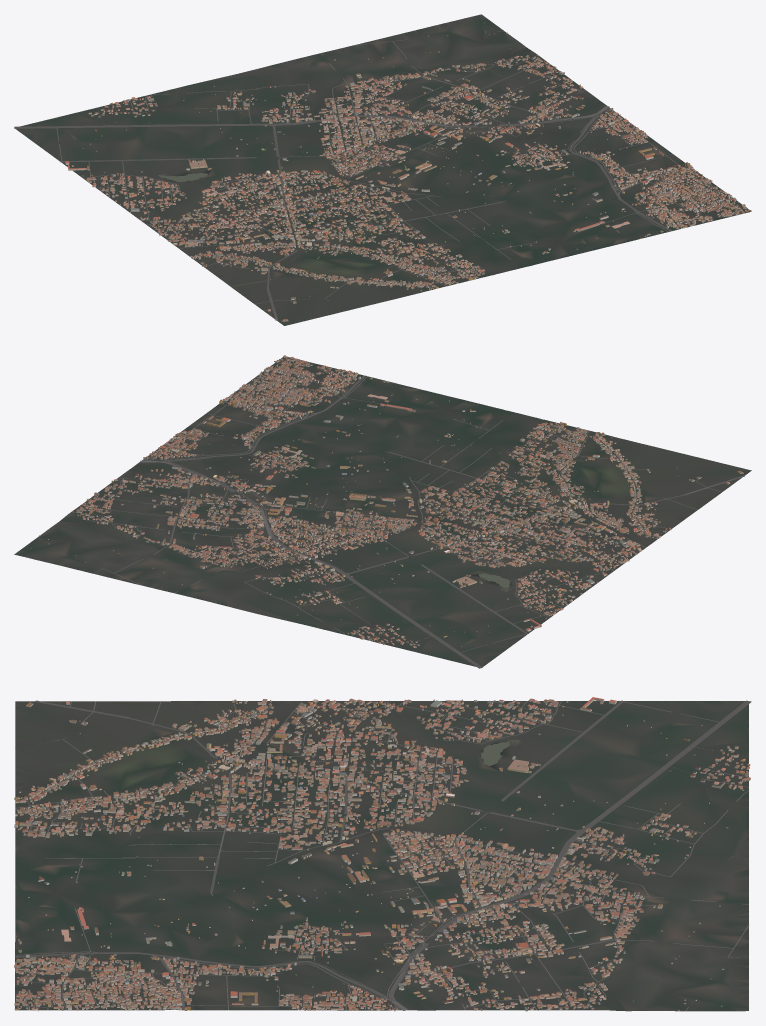
The picture shows the model from 3 angles, top to bottom: view 1: azimuth 30°, elevation 25°; view 2: azimuth 150°, elevation 25°; view 3: azimuth 270°, elevation 25°; orthographic projection. The views are drawn at different scales.
Visible parts, largest first — view 1: ground, buildings, roads; view 2: ground, buildings, roads; view 3: ground, buildings, roads.
Part boxes in pixels (x1=…): ground: x1=15, y1=14, x2=749, y2=325; buildings: x1=65, y1=22, x2=751, y2=321; roads: x1=14, y1=31, x2=744, y2=320; ground: x1=14, y1=356, x2=751, y2=667; buildings: x1=30, y1=355, x2=743, y2=647; roads: x1=37, y1=358, x2=744, y2=668; ground: x1=15, y1=700, x2=748, y2=1011; buildings: x1=14, y1=697, x2=750, y2=1011; roads: x1=15, y1=700, x2=751, y2=1010.
Size of the model in its own units: 2825 by 27.42 by 2819.
